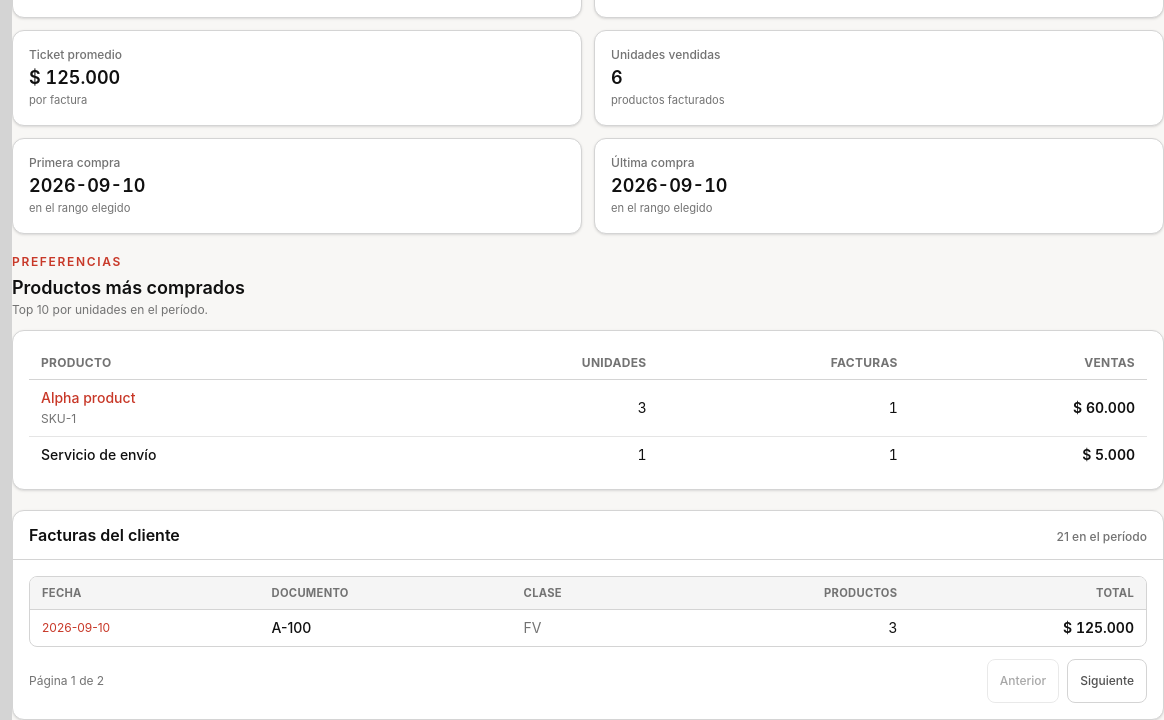
Test case: ClienteProfile › paginates invoices and requests the next page
(page scrolled)
Click the button "Siguiente". click: (1107,681)
box: 1067,659 -> 1147,703
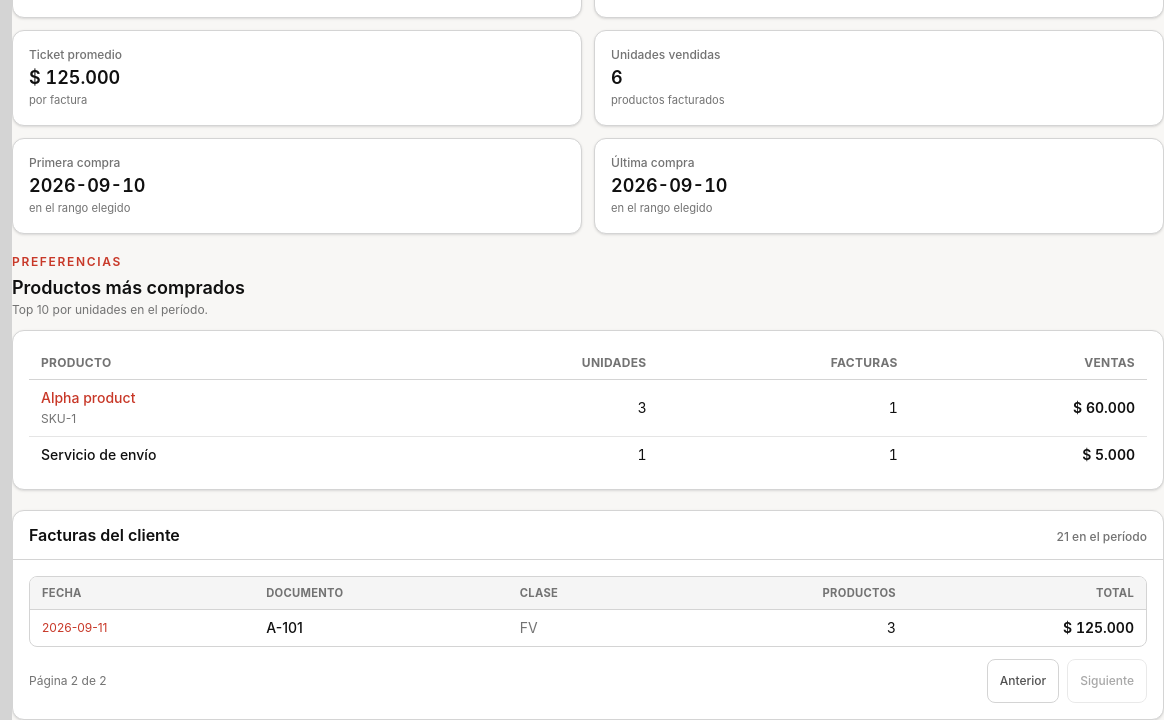
Expected: the button "Siguiente" is disabled, 1067,659 -> 1147,703
